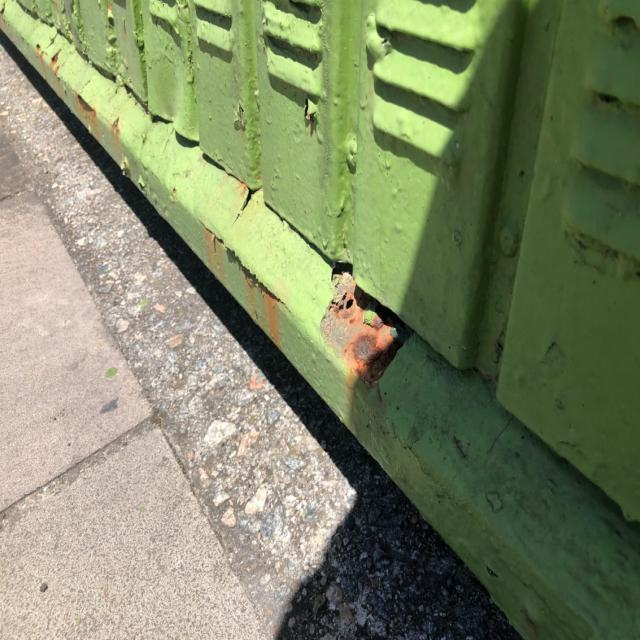Corrosion: (0, 0, 639, 639), (318, 270, 400, 387)
